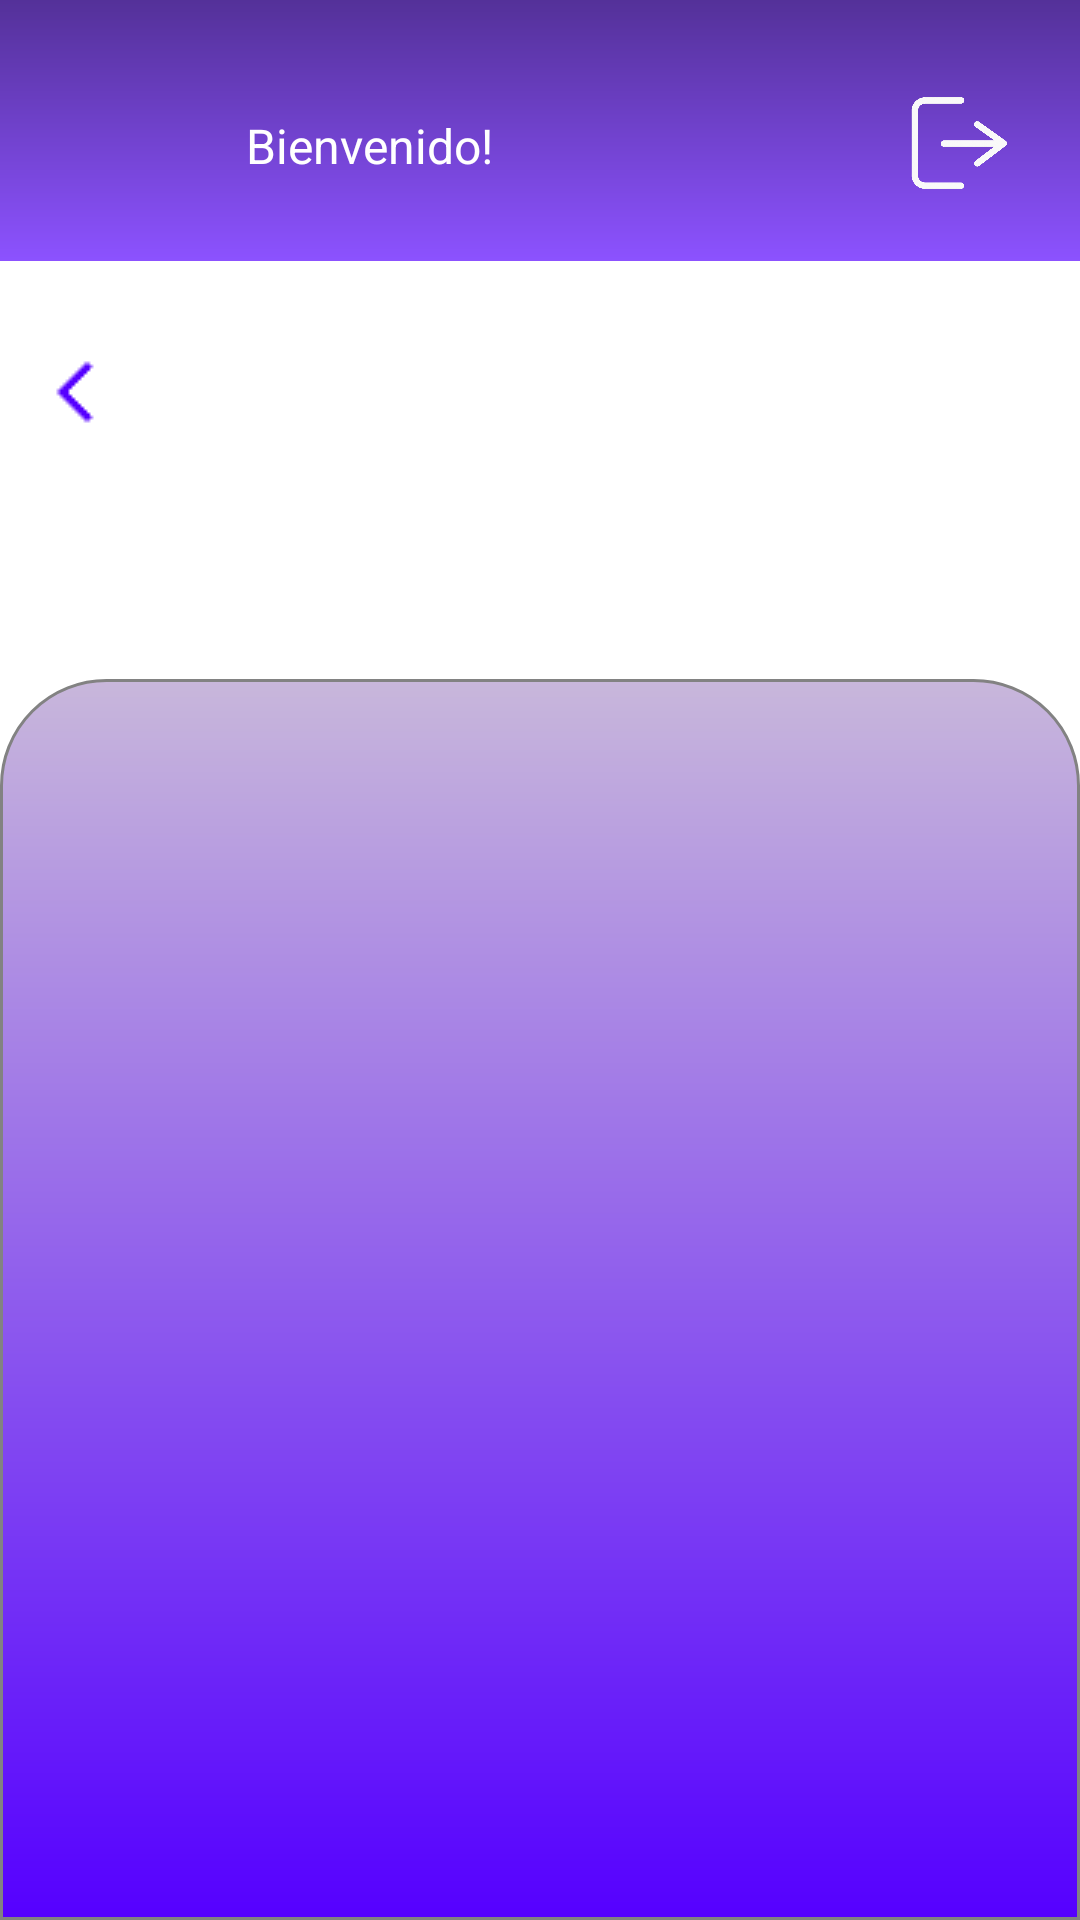

Icons on this 1080w x 1920h Android screen, each with the point to tap as (x,y):
back: (75,392)
salir: (957,145)
